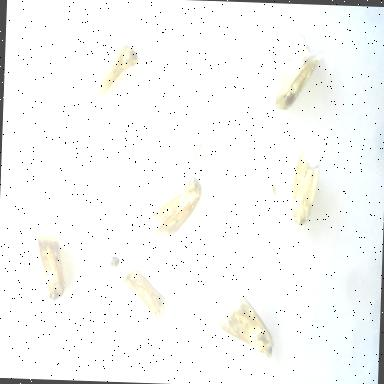abw: (272, 26, 326, 116), (216, 290, 278, 361), (82, 36, 142, 109), (146, 170, 204, 244), (117, 262, 170, 326), (288, 148, 326, 230), (33, 227, 70, 307)
